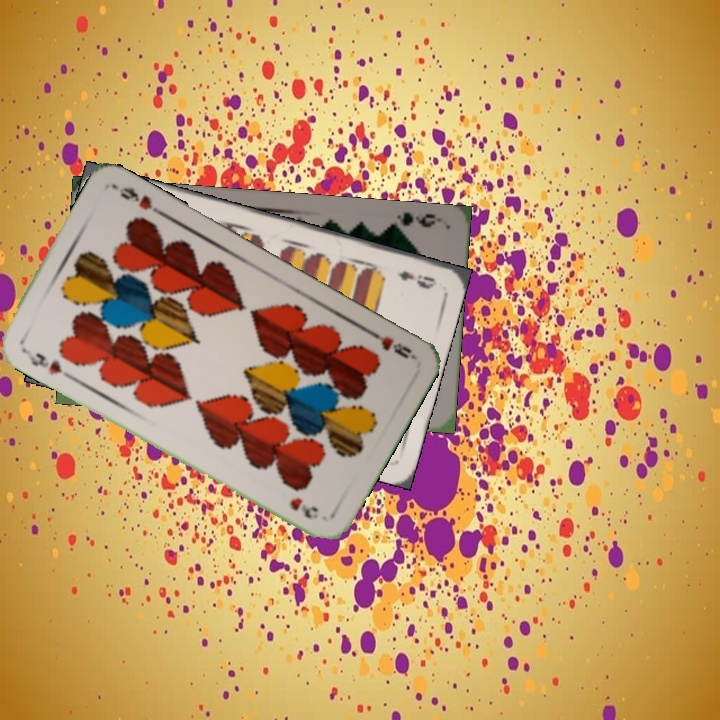E9: (394, 266, 440, 292)
G9: (385, 208, 438, 235)
H9: (363, 325, 418, 362), (19, 344, 73, 381)
